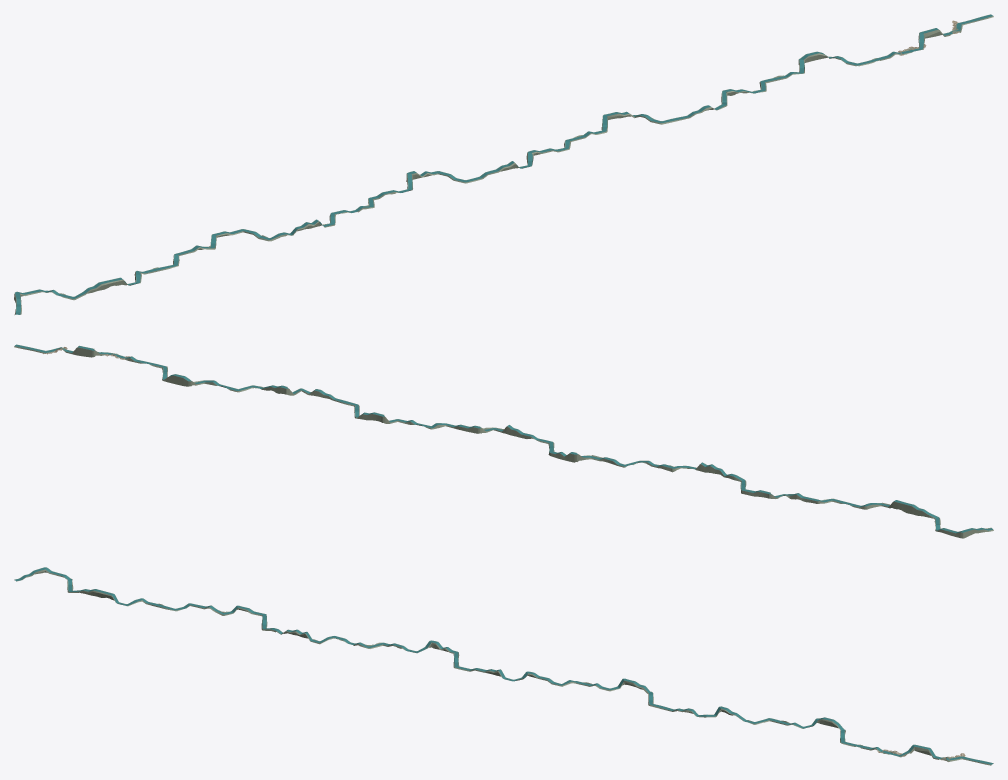
Rendered from river.glb.
3 views of the same model, one above another, from view 1: azimuth 30°, elevation 25°; view 2: azimuth 150°, elevation 25°; view 3: azimuth 330°, elevation 25° (orthographic). The views are drawn at different scales.
Bounding box in the file's own units: 358 × 2.94 × 40.24.
